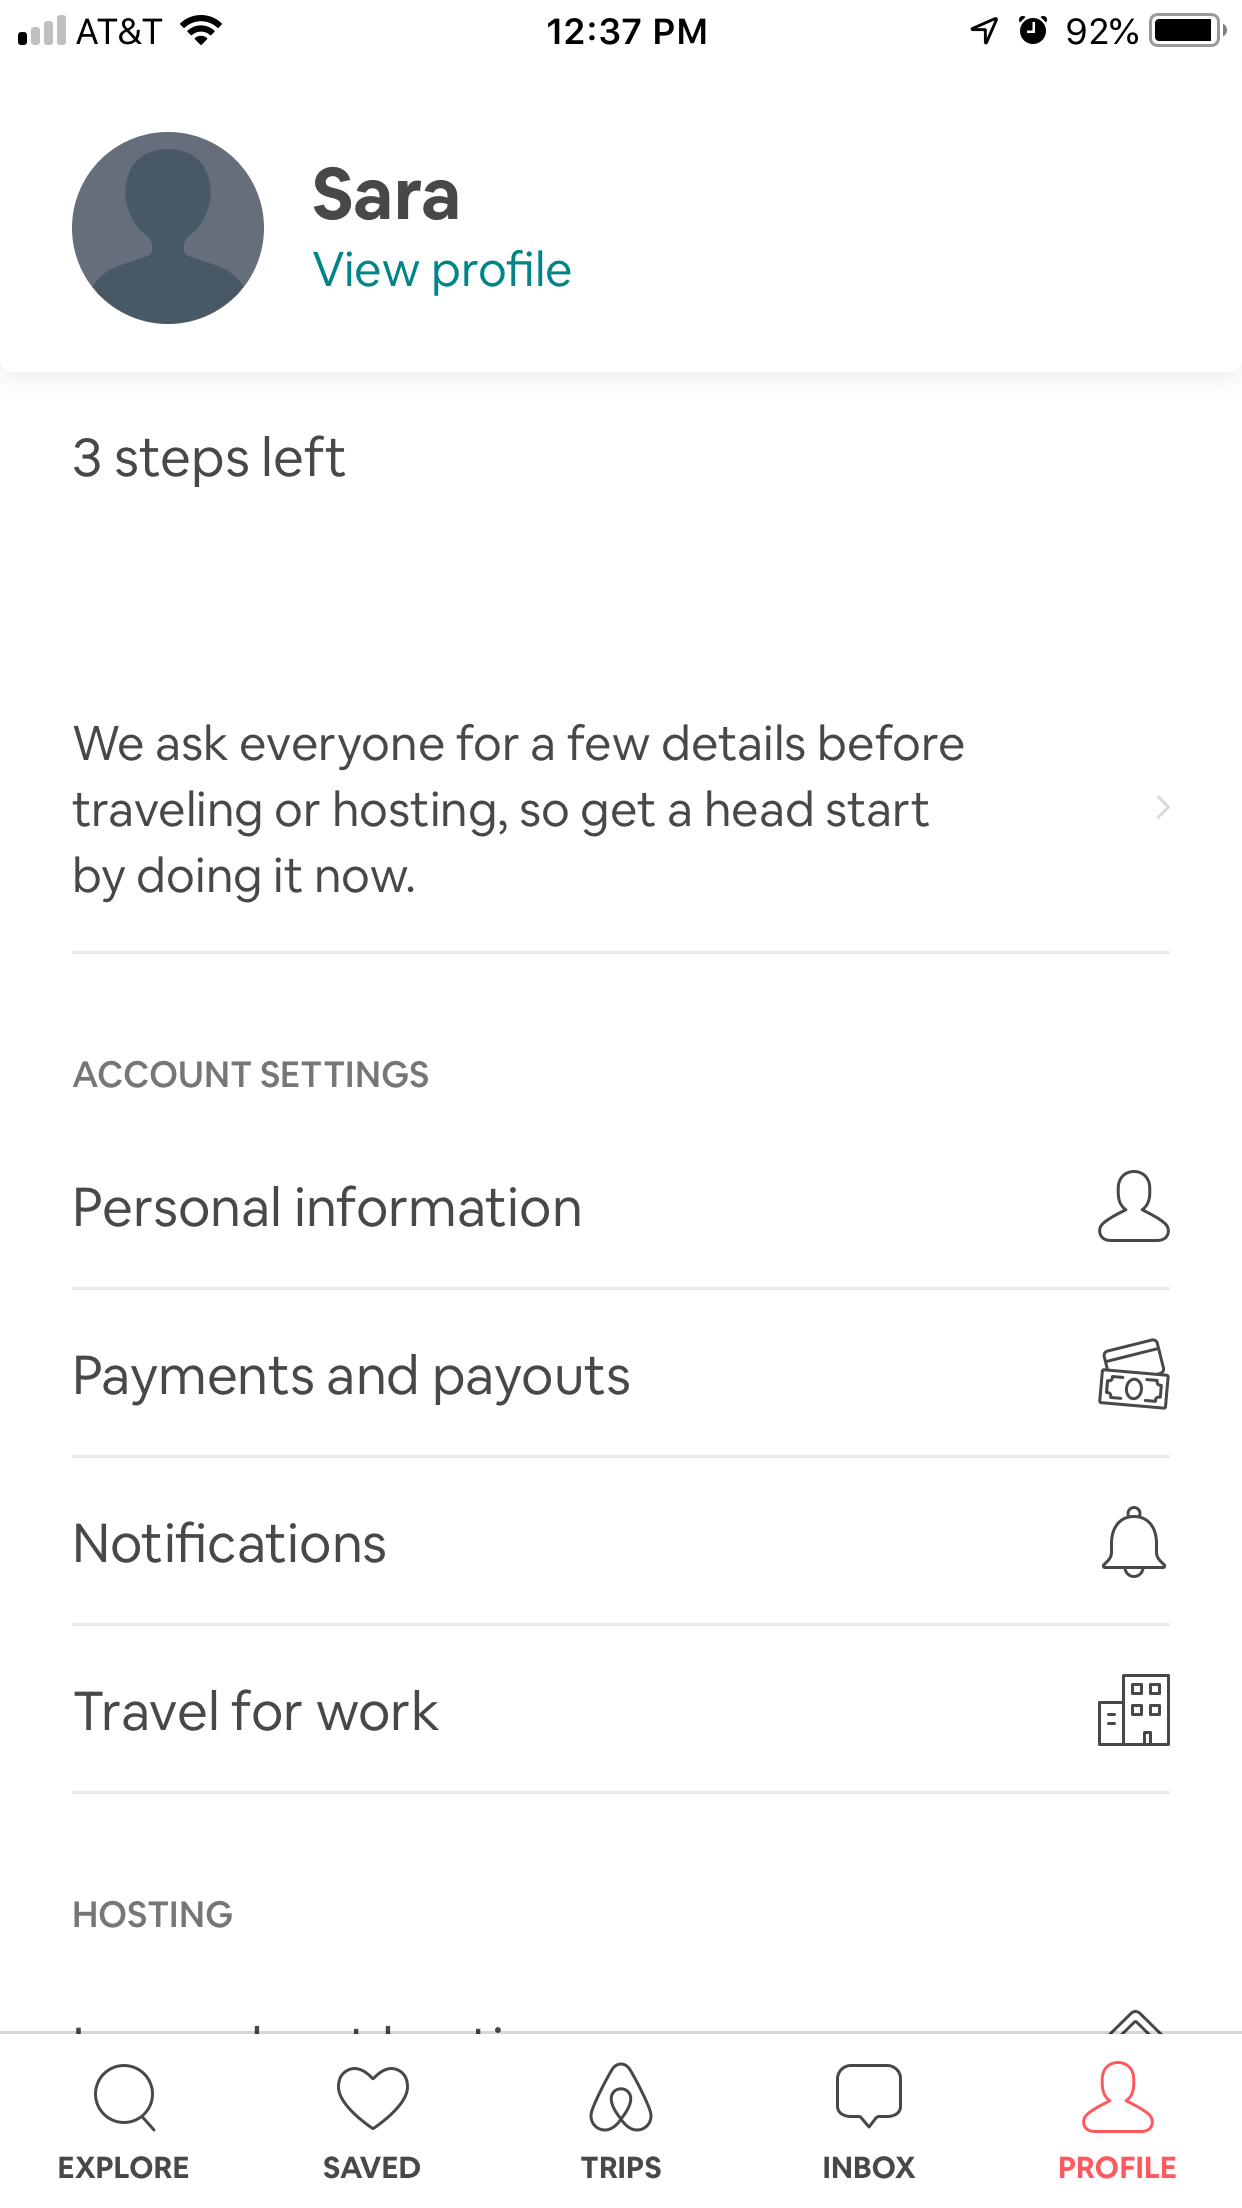Icon: (71, 132, 265, 326), (1081, 2059, 1156, 2134), (1096, 1336, 1171, 1410), (1096, 1169, 1171, 1244), (1101, 1504, 1168, 1579), (337, 2065, 409, 2131), (836, 2062, 902, 2129), (94, 2064, 158, 2134)
Image: (1096, 1673, 1171, 1747), (588, 2062, 654, 2134)
Text: (73, 723, 964, 904), (76, 1354, 629, 1407), (76, 1184, 581, 1228), (74, 1688, 441, 1732), (74, 435, 347, 488), (77, 1520, 387, 1563), (312, 249, 572, 299), (74, 1060, 431, 1089), (312, 165, 459, 221), (74, 1900, 234, 1929), (59, 2155, 190, 2179), (1060, 2155, 1177, 2179), (325, 2155, 422, 2179), (823, 2155, 917, 2179), (581, 2155, 663, 2179)
UpperTaskBar: (2, 2, 1242, 49)
